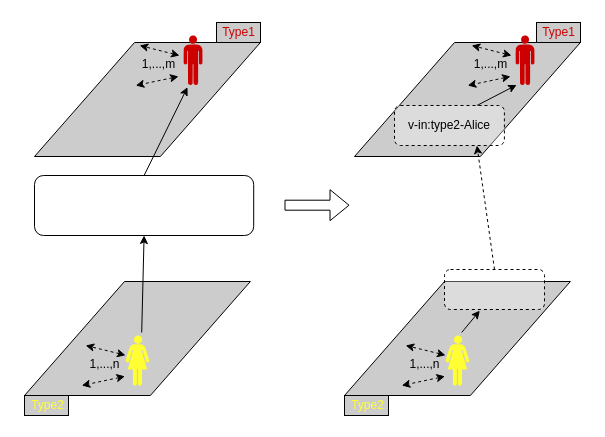
This 605x437 diagram has some shape labels left out. Each missing label, with the centre of its shape:
"v-out:type1-Max" belongs at point 494,289.
"Virtual( (type2, Alice) -> (type1, Max))" belongs at point 144,205.
